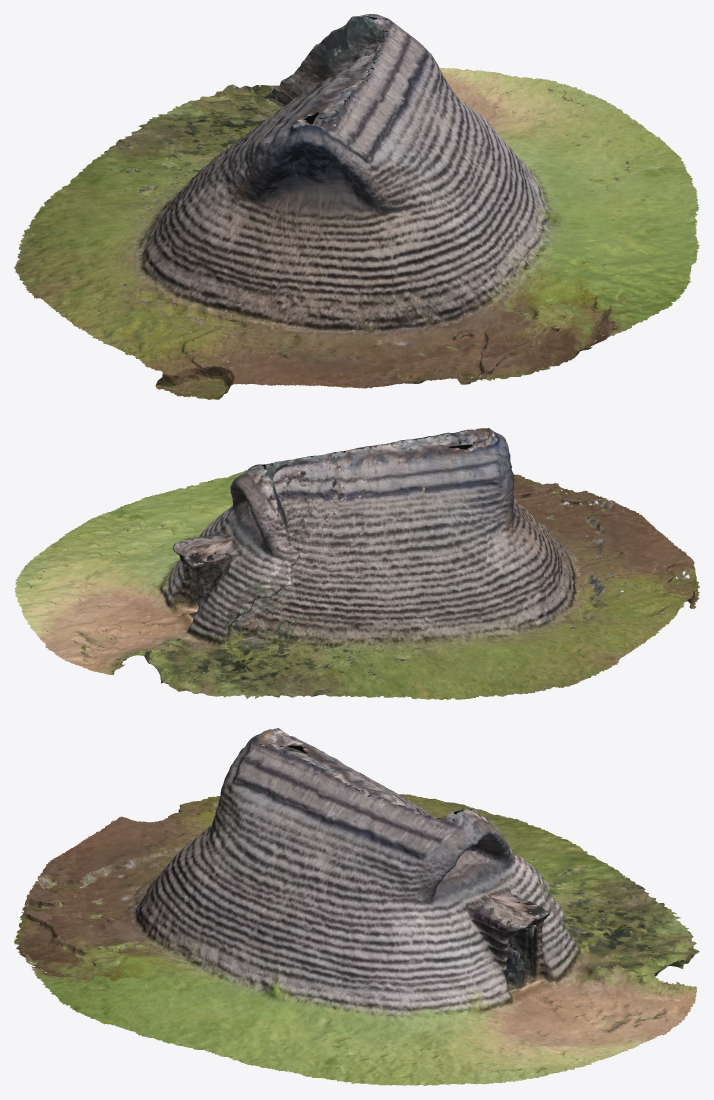
The model's file is tateanaB0717.fbx.
The picture shows the model from 3 angles, top to bottom: view 1: azimuth 30°, elevation 25°; view 2: azimuth 150°, elevation 25°; view 3: azimuth 270°, elevation 25°; orthographic projection. The views are drawn at different scales.
Parts seen in each view (by area): view 1: texturedMesh; view 2: texturedMesh; view 3: texturedMesh.
Boxes of the visible parts, x1,y1,x2,y2 form: texturedMesh: (14, 14, 699, 399); texturedMesh: (14, 428, 699, 699); texturedMesh: (14, 728, 699, 1085).
Size of the model in its own units: 97.66 by 27.53 by 96.29.
2 materials, 2 textured.
